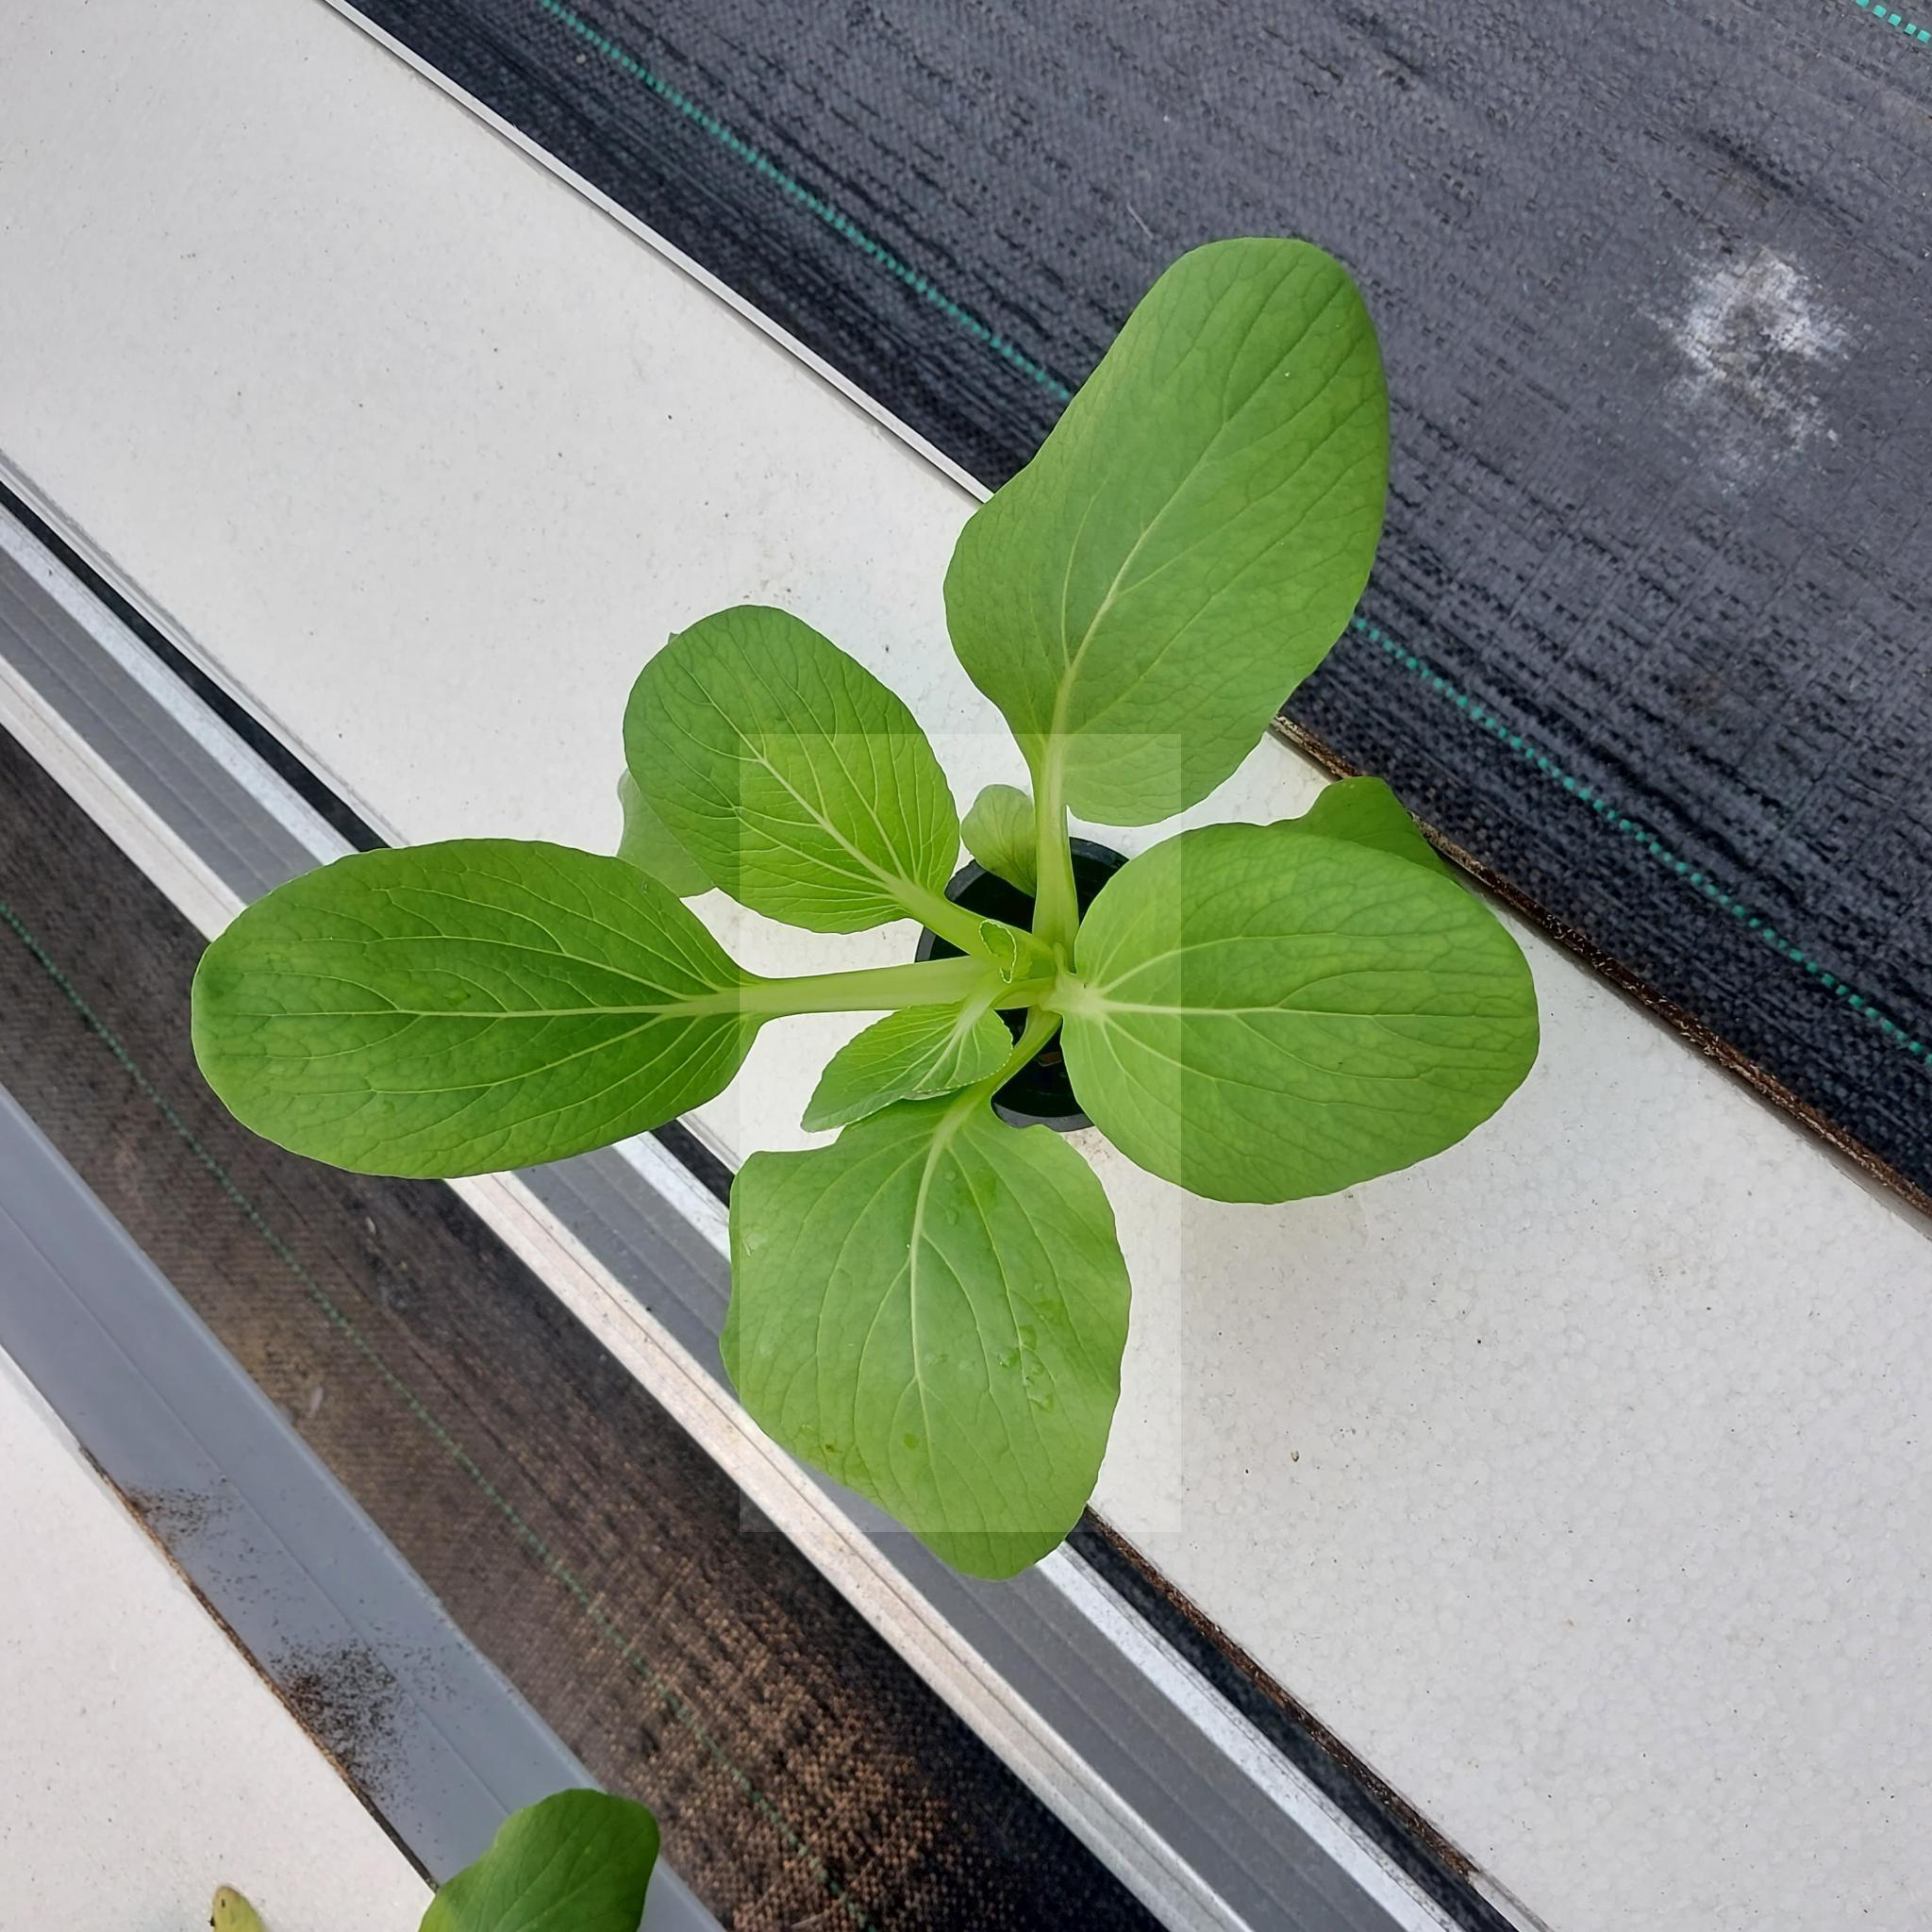Healthy-Pechay: (957, 226, 1384, 860), (182, 840, 786, 1171), (724, 1069, 1109, 1580), (1058, 794, 1546, 1196), (617, 607, 982, 939), (786, 823, 1039, 1051), (343, 869, 662, 985), (796, 973, 1026, 1127)
